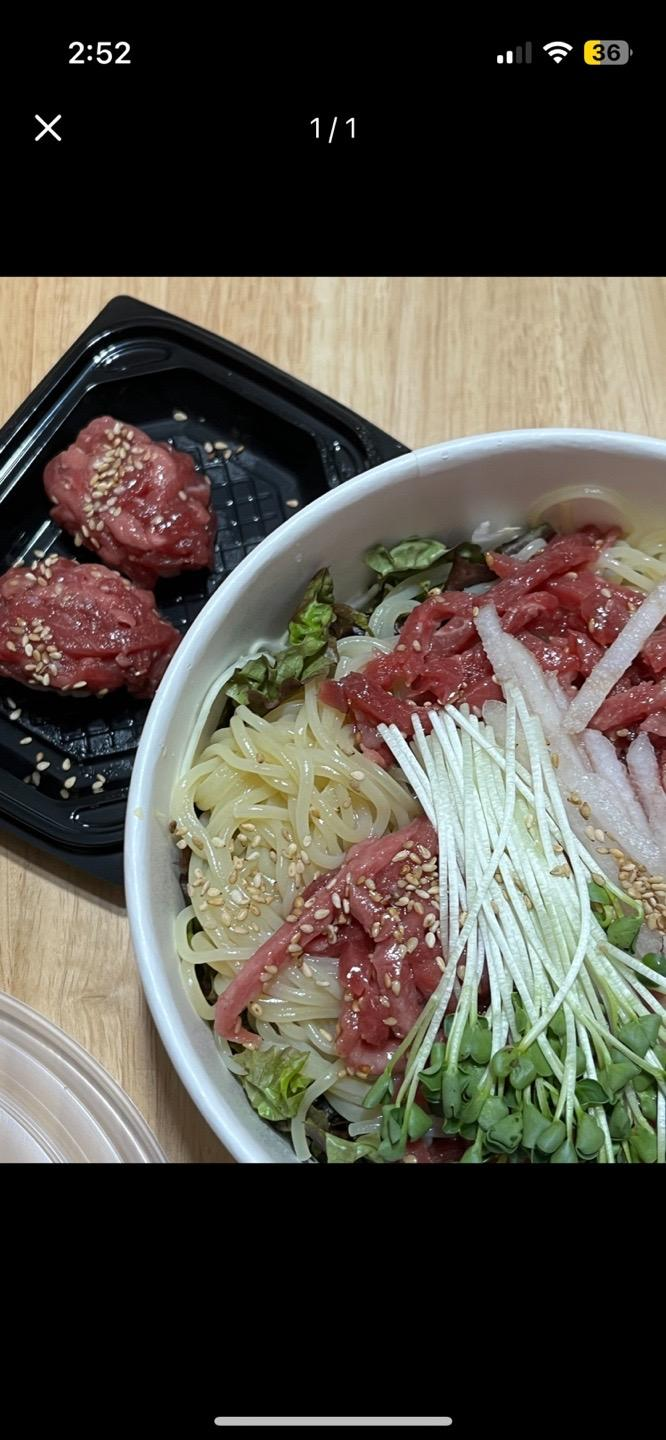Lunch Box: (125, 430, 665, 1170), (0, 298, 405, 882)
